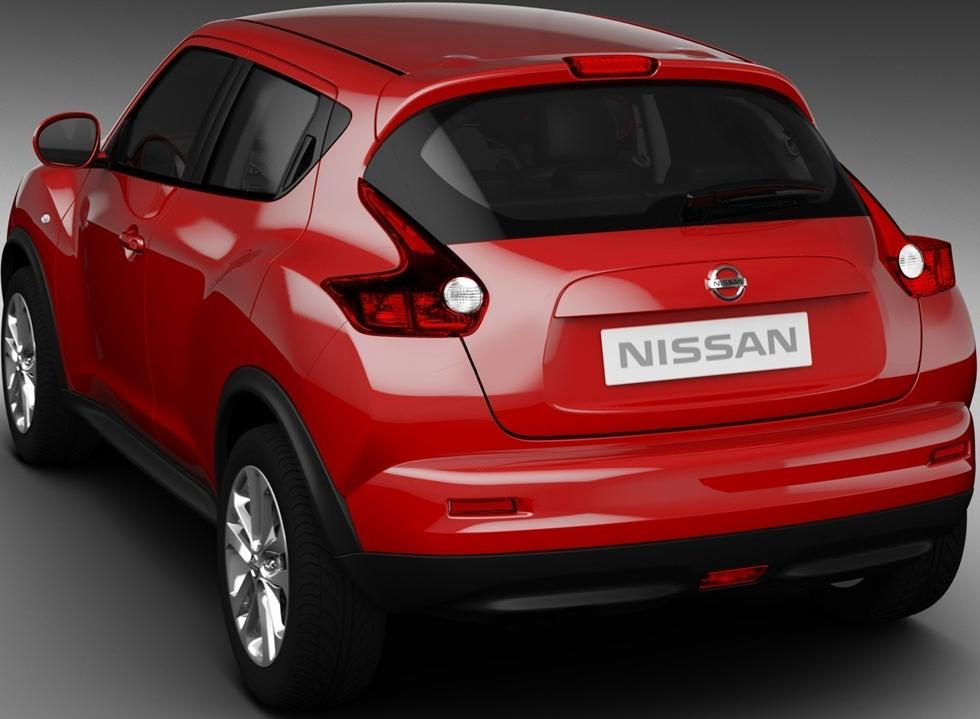back_view: (291, 199, 980, 575)
backlight: (317, 175, 498, 356)
side_glass: (109, 45, 311, 210)
